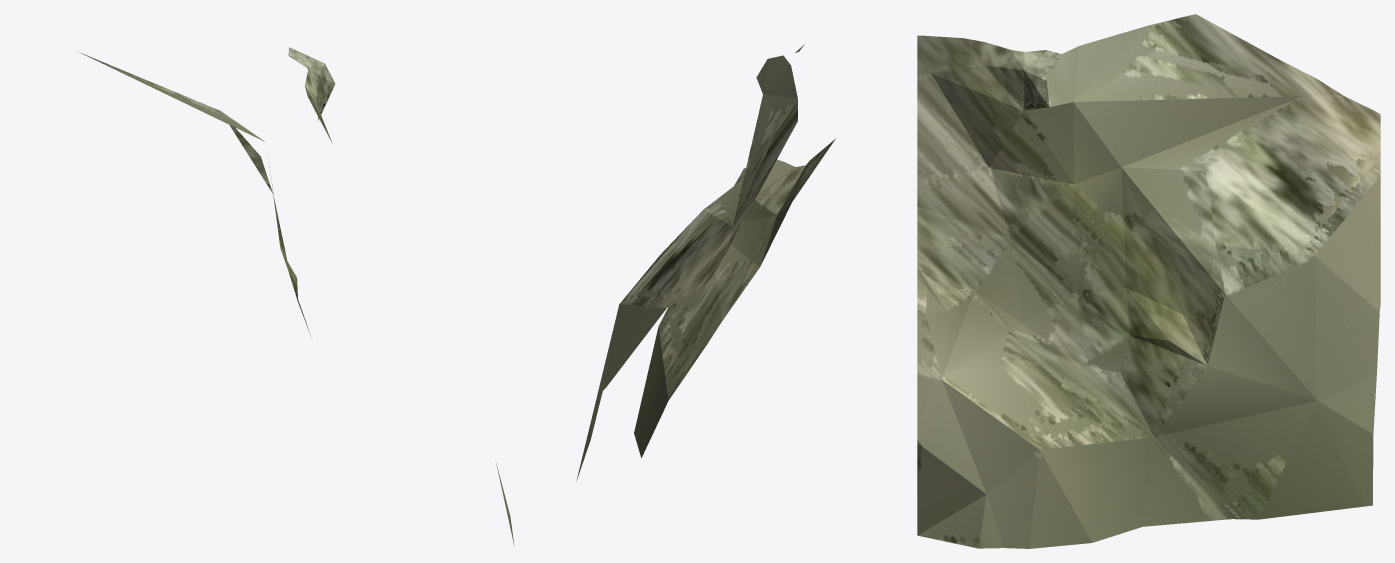
3 views of the same model, side by side, from view 1: azimuth 30°, elevation 25°; view 2: azimuth 150°, elevation 25°; view 3: azimuth 270°, elevation 25° (orthographic). The views are drawn at different scales.
Size of the model in its own units: 3.47 by 5.9 by 5.9.
3 materials, 3 textured.
